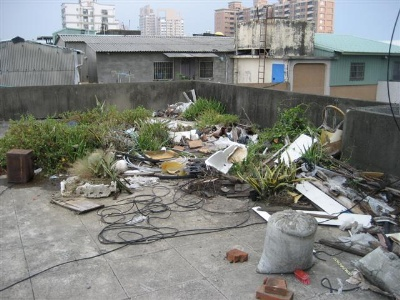plastic_bag: (258, 210, 318, 274)
